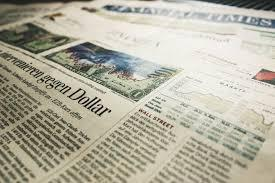Printing industry: (0, 2, 275, 183)
